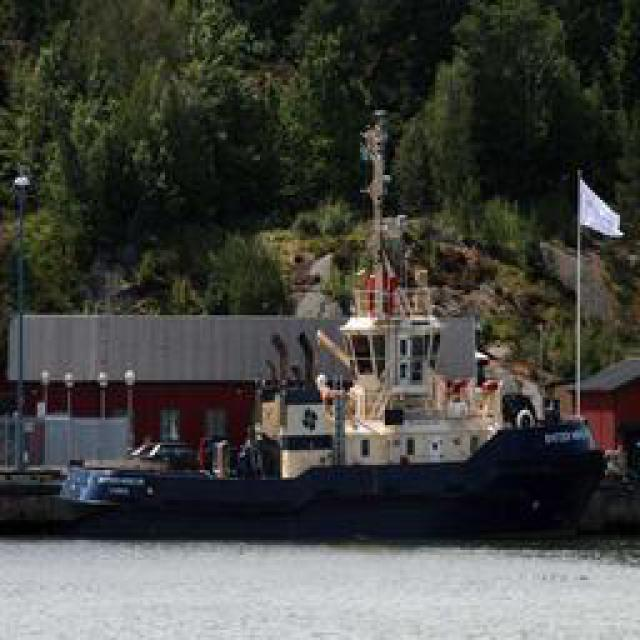Ship: (27, 312, 617, 542)
